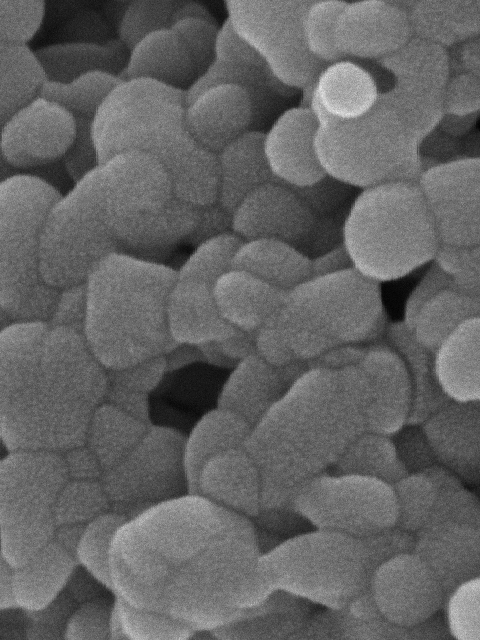nano: (339, 179, 440, 282), (315, 61, 381, 119)
